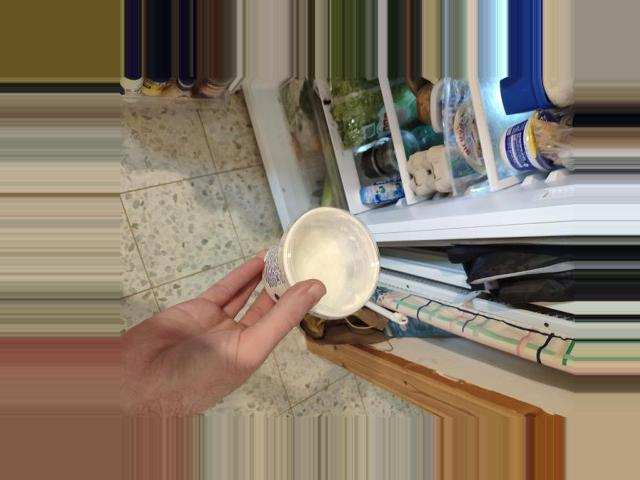cotage: (262, 227, 384, 323)
